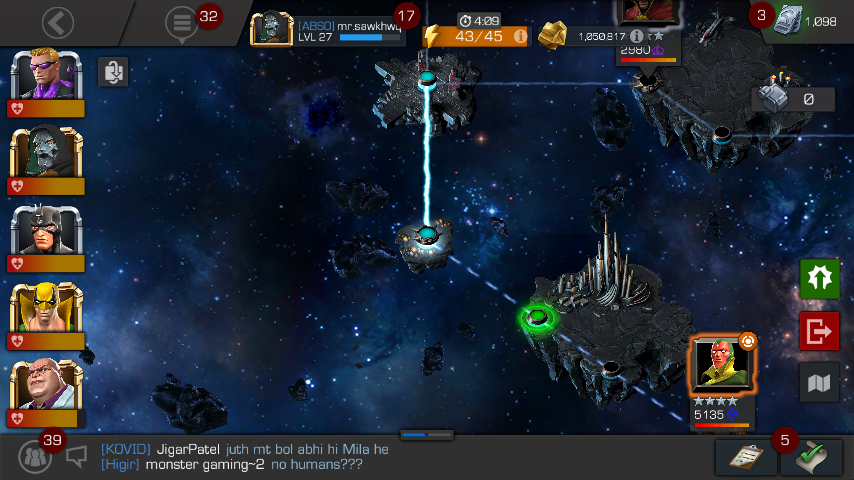green: (527, 310, 548, 324)
